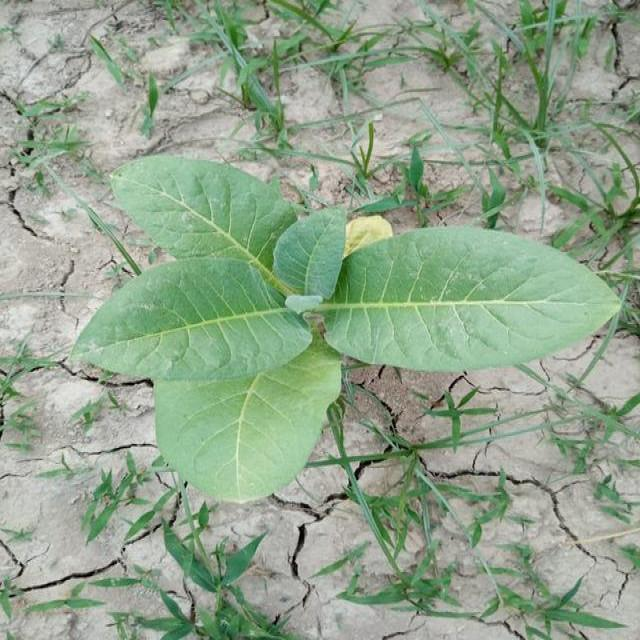crop: (74, 159, 616, 497)
